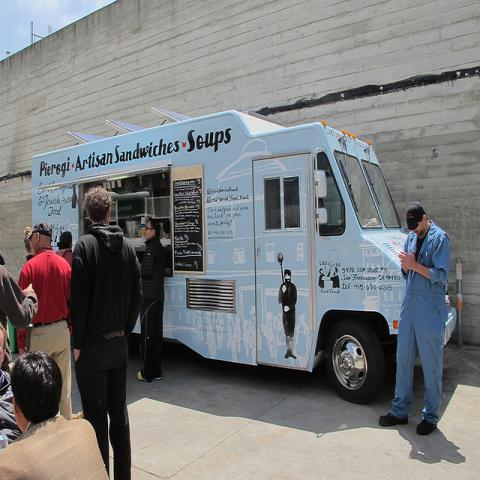truck: (32, 111, 457, 408)
